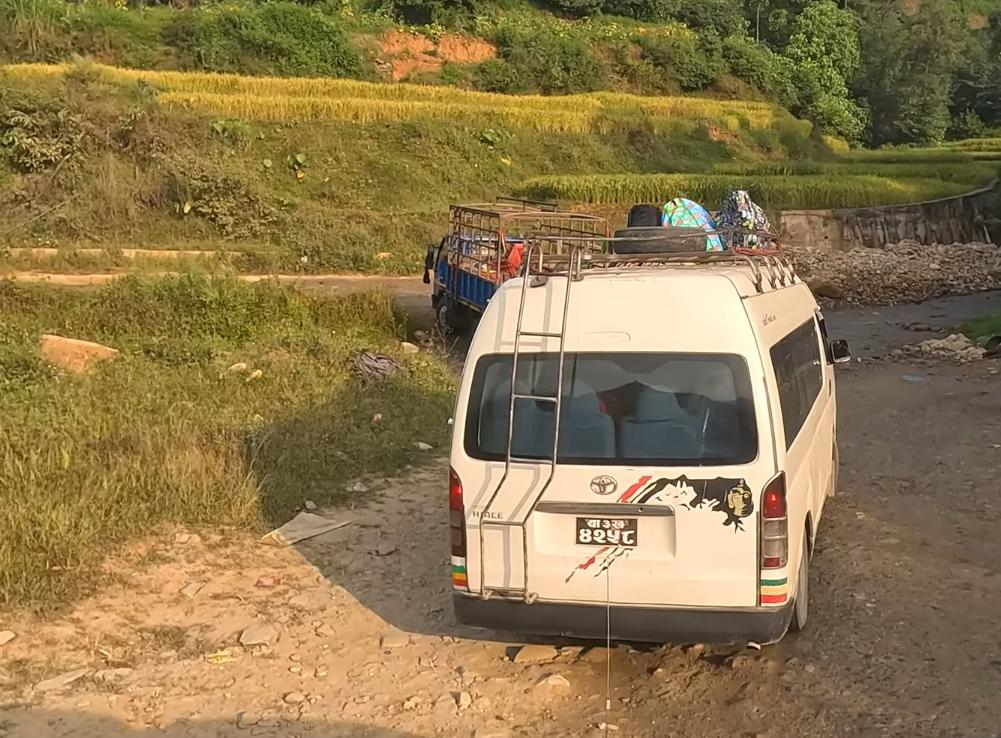micro_bus: (439, 228, 861, 660)
